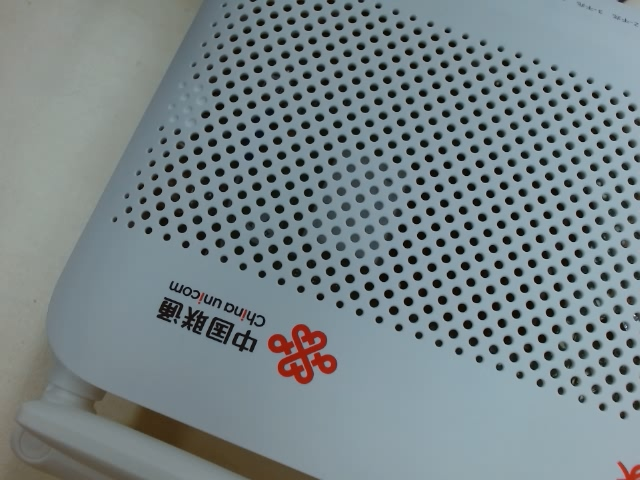AD_ChinaUnicom: (147, 269, 357, 388)
